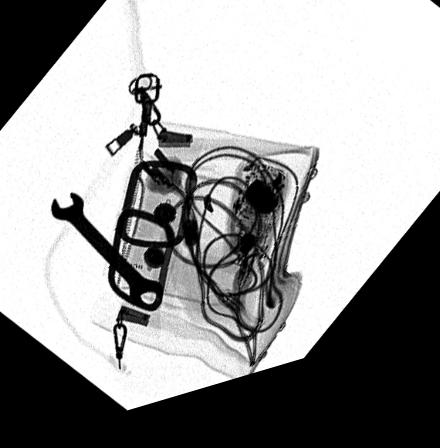Wrench: (47, 193, 165, 315)
